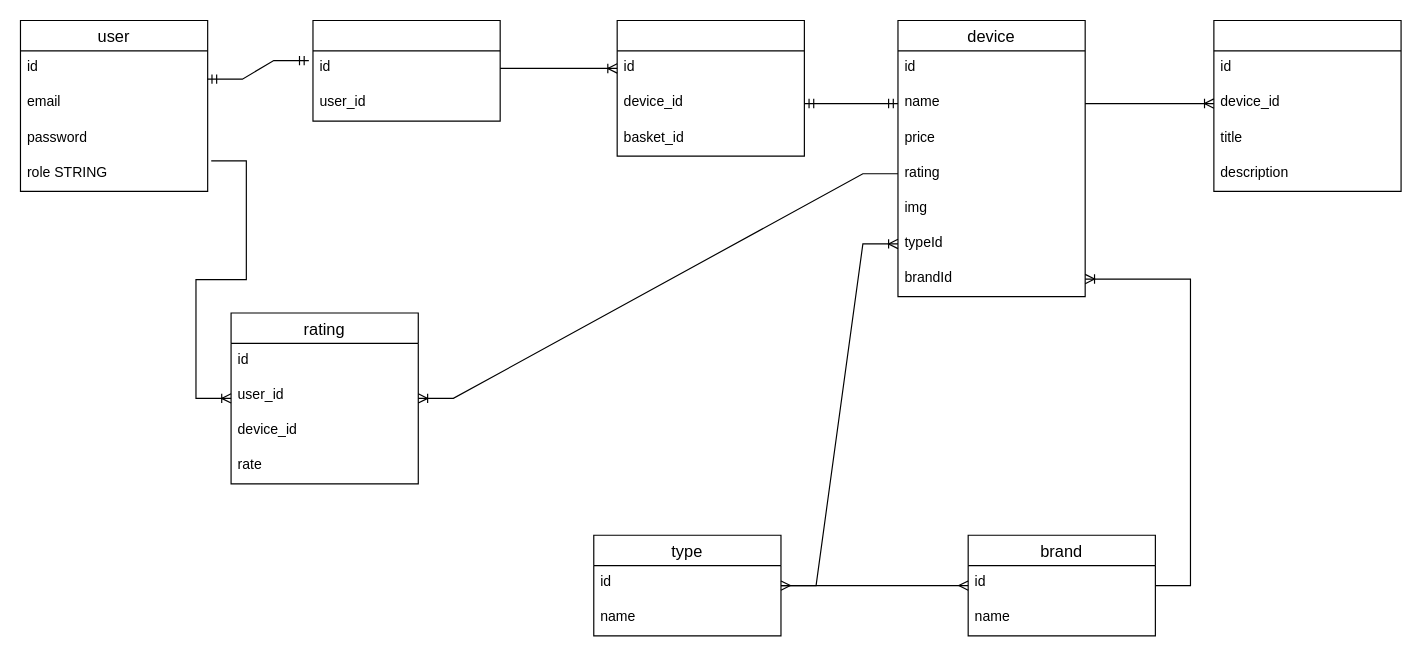
This 1422x660 diagram has some shape labels left out. Each missing label, with the box of its shape:
basket: (312, 19, 500, 121)
basket_device: (616, 19, 804, 156)
device_infp: (1213, 19, 1401, 191)
